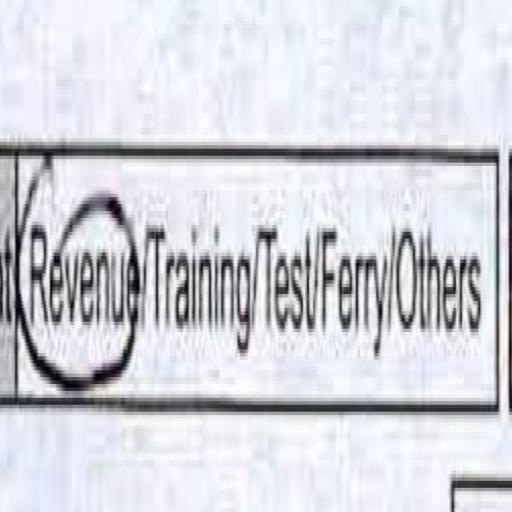check: (18, 134, 140, 435)
